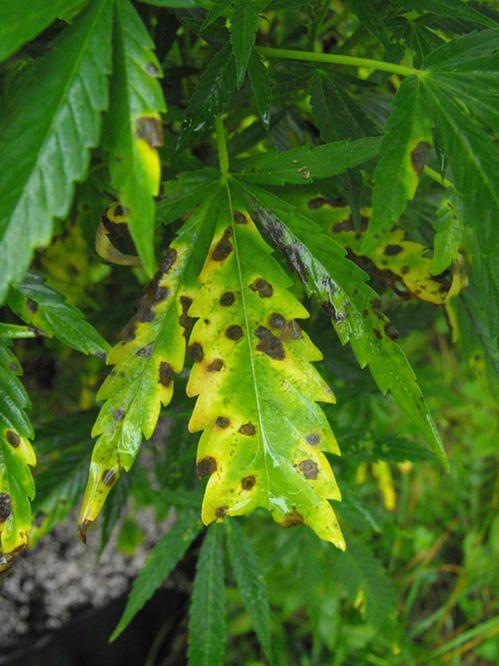Tomato leaf late blight: (186, 202, 353, 551), (67, 205, 219, 522), (82, 14, 186, 278), (346, 78, 440, 258)
